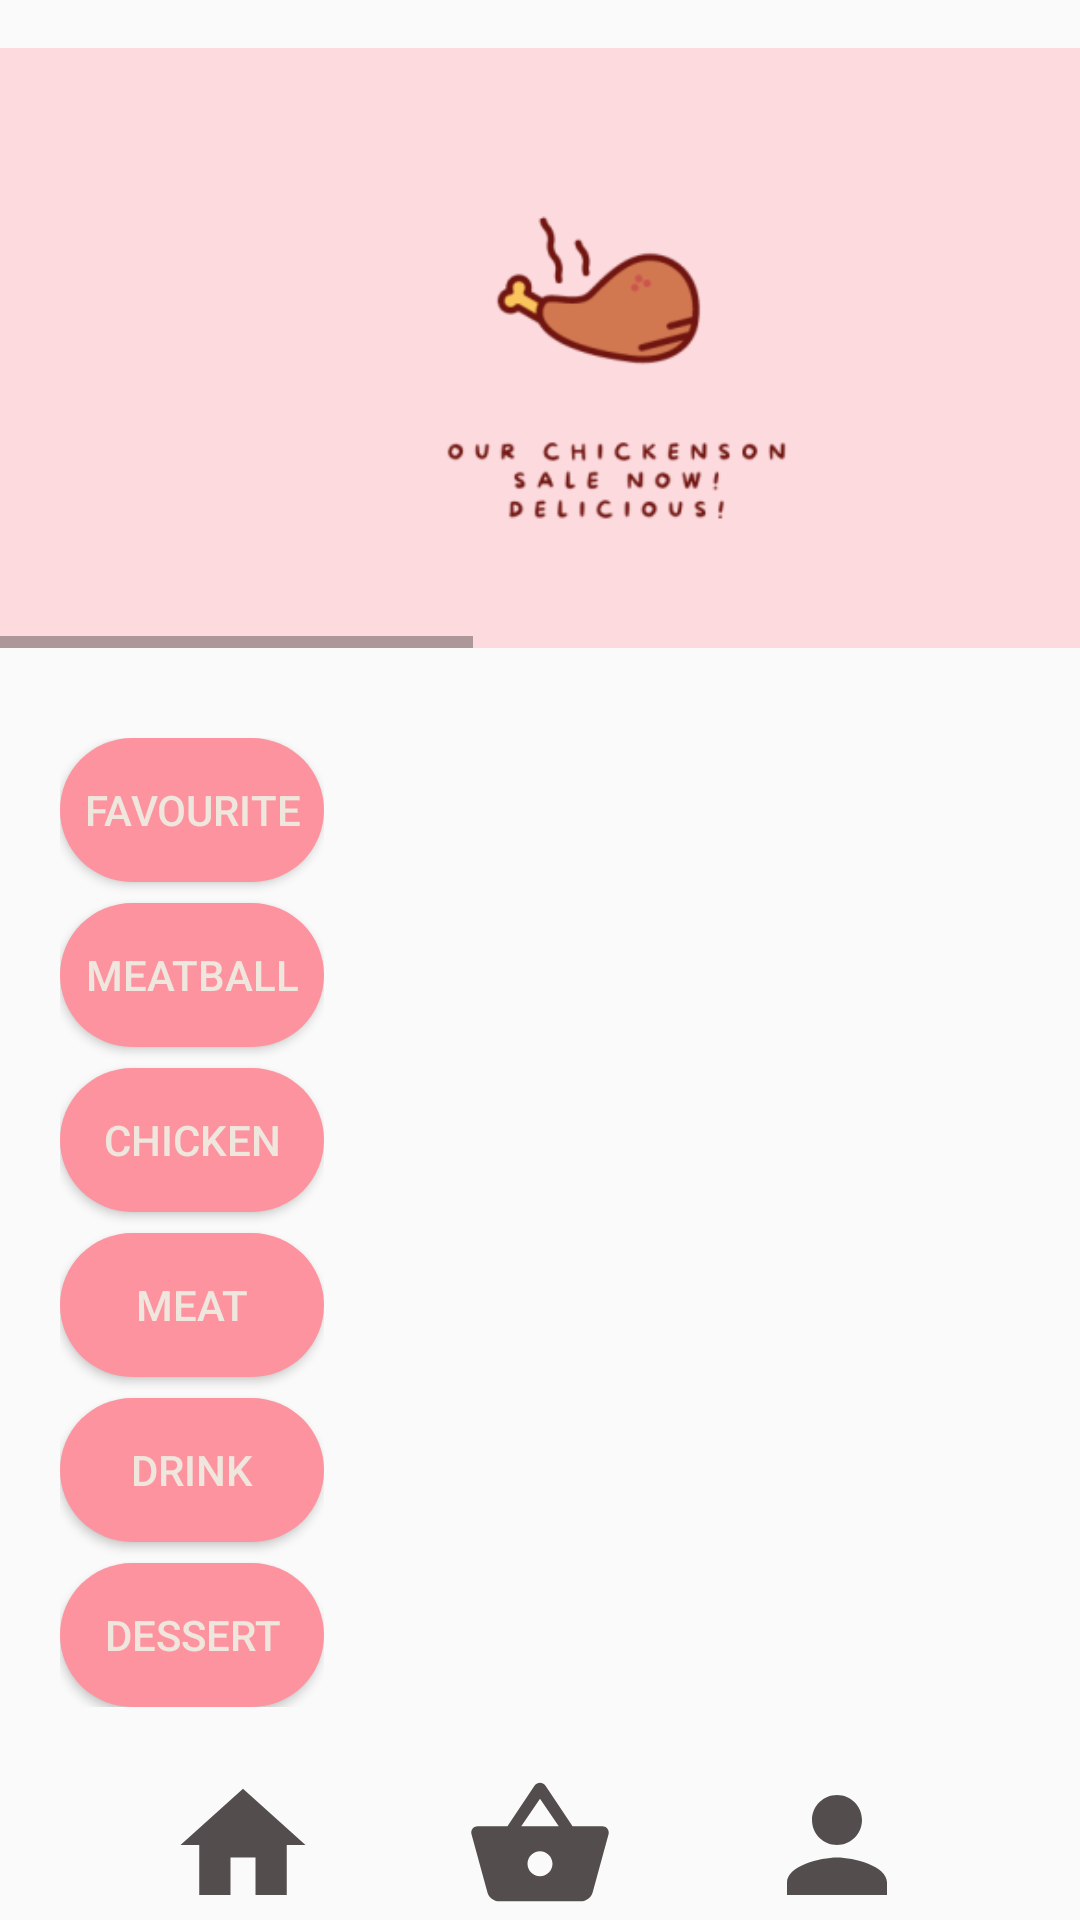

Icons on this 1080*1920 Android screen, each with the point to tap as (x=x, y=y):
basket: (x=540, y=1842)
home: (x=243, y=1842)
person: (x=837, y=1845)
